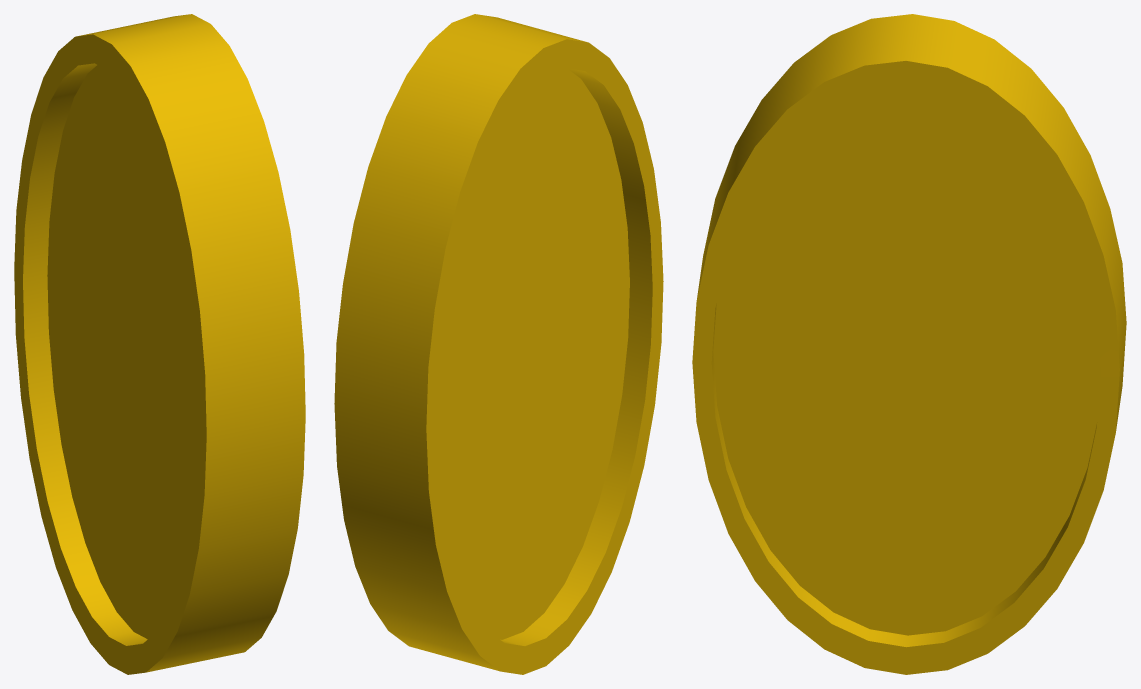
File: Coin.fbx
3 renders of one model, left to right at view 1: azimuth 30°, elevation 25°; view 2: azimuth 150°, elevation 25°; view 3: azimuth 270°, elevation 25°, orthographic.
Visible parts, largest first — view 1: Circle.055; view 2: Circle.055; view 3: Circle.055.
Boxes of the visible parts, x1=… form: Circle.055: x1=14, y1=14, x2=305, y2=674; Circle.055: x1=334, y1=14, x2=663, y2=674; Circle.055: x1=692, y1=14, x2=1126, y2=674.
Bounding box in the file's own units: 4.46 × 22.31 × 14.26.
